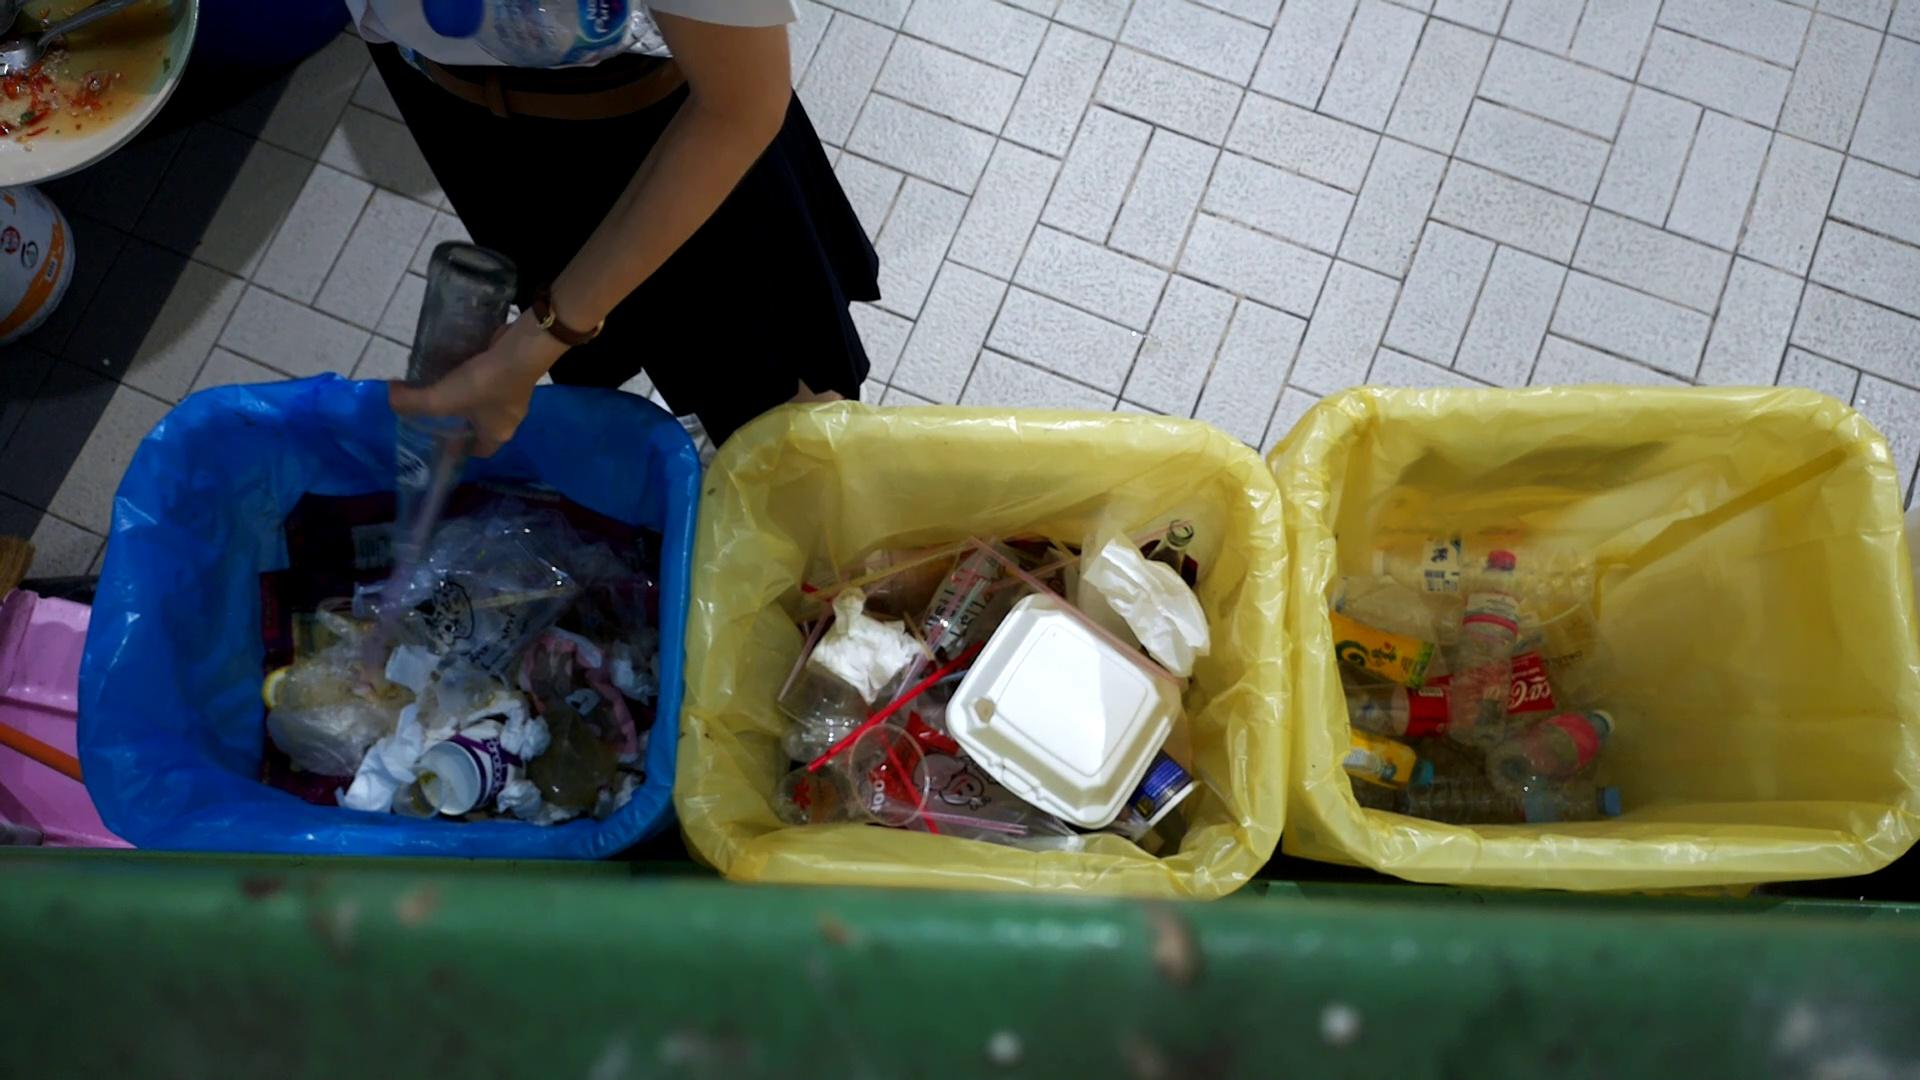filled plastic bag: (357, 520, 583, 682)
food container: (944, 593, 1184, 832), (418, 719, 521, 818), (394, 767, 450, 820)
plastic bag: (260, 592, 418, 777), (514, 620, 620, 737)
plastic bottle: (1365, 533, 1604, 600), (1447, 546, 1523, 749), (1386, 774, 1630, 824), (1486, 707, 1617, 799), (1324, 611, 1437, 690), (1344, 682, 1460, 737), (1345, 727, 1439, 793)
plastic cup: (775, 719, 928, 835), (1522, 603, 1625, 704)
straw: (945, 524, 1174, 688), (352, 410, 473, 683), (799, 624, 989, 778), (898, 531, 998, 688), (804, 537, 994, 604), (874, 733, 943, 836), (918, 580, 993, 673), (880, 799, 1036, 827), (923, 641, 1013, 686), (993, 546, 1083, 589)
tissue paper: (1083, 531, 1209, 683), (808, 582, 920, 703), (588, 630, 659, 699), (388, 640, 436, 692), (336, 769, 400, 808), (492, 778, 547, 819), (365, 724, 422, 758), (502, 705, 542, 752), (609, 778, 640, 803)
